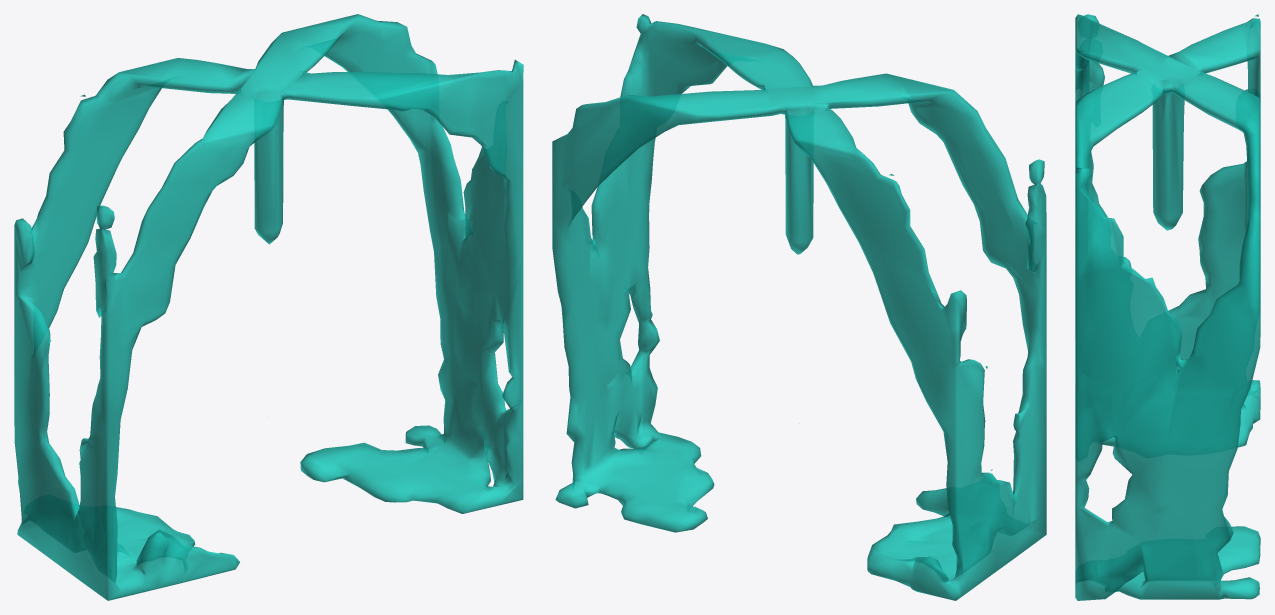
The picture shows the model from 3 angles, left to right: view 1: azimuth 30°, elevation 25°; view 2: azimuth 150°, elevation 25°; view 3: azimuth 270°, elevation 25°; orthographic projection. The views are drawn at different scales.
Parts seen in each view (by area): view 1: Liquid_Domain; view 2: Liquid_Domain; view 3: Liquid_Domain.
Boxes of the visible parts, <box> form: Liquid_Domain: <box>14,14,523,600</box>; Liquid_Domain: <box>552,14,1046,600</box>; Liquid_Domain: <box>1075,14,1260,600</box>.
Bounding box in the file's own units: 1965 × 1966 × 766.
